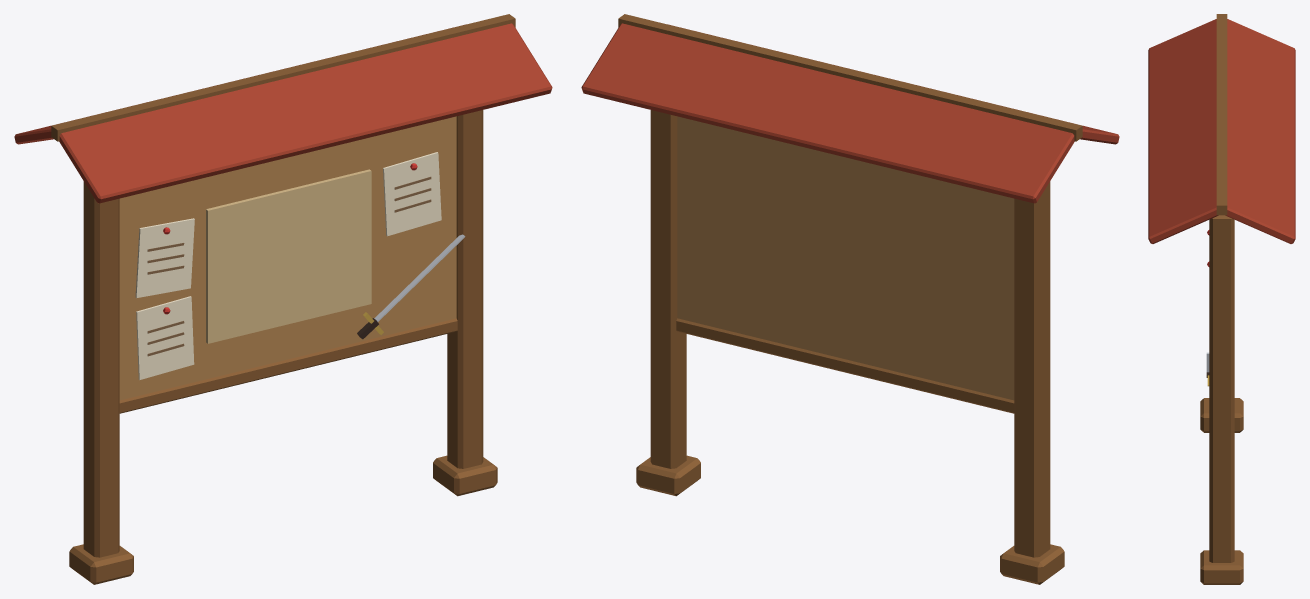
Rendered from prop_board_quest_v01.glb.
3 renders of one model, left to right at view 1: azimuth 30°, elevation 25°; view 2: azimuth 150°, elevation 25°; view 3: azimuth 270°, elevation 25°, orthographic. The views are drawn at different scales.
Parts seen in each view (by area): view 1: board_quest; view 2: board_quest; view 3: board_quest.
Boxes of the visible parts, x1=… form: board_quest: x1=14, y1=14, x2=552, y2=584; board_quest: x1=581, y1=14, x2=1119, y2=584; board_quest: x1=1148, y1=14, x2=1295, y2=584.
Size of the model in its own units: 2.52 by 2.4 by 0.8183.
